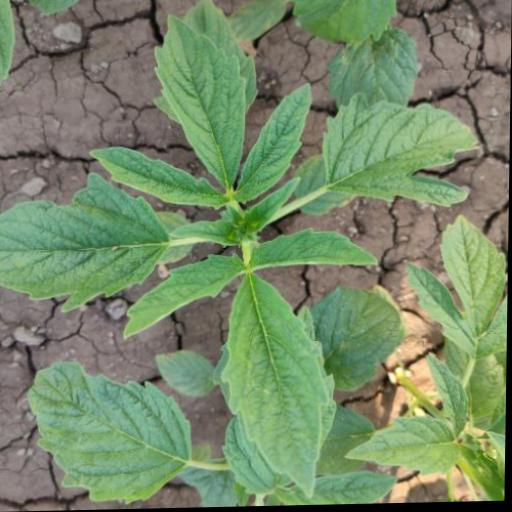crop: (0, 22, 477, 455), (28, 250, 509, 511)
